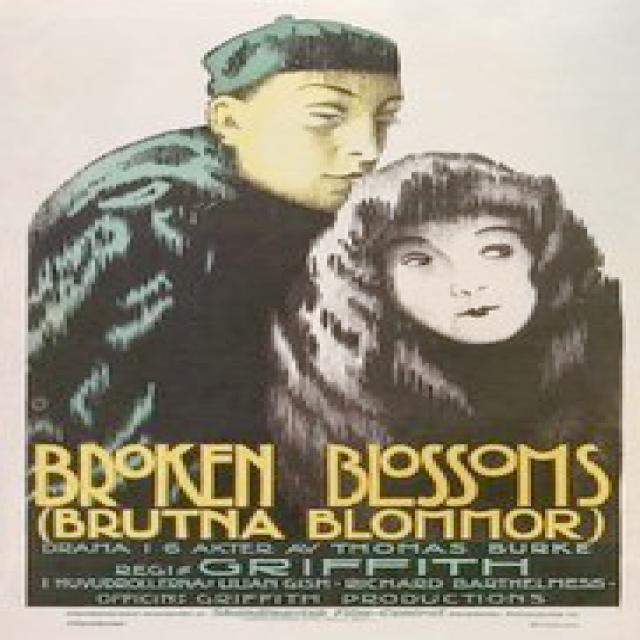movie-judul: (25, 440, 619, 545)
picture: (32, 16, 619, 441)
